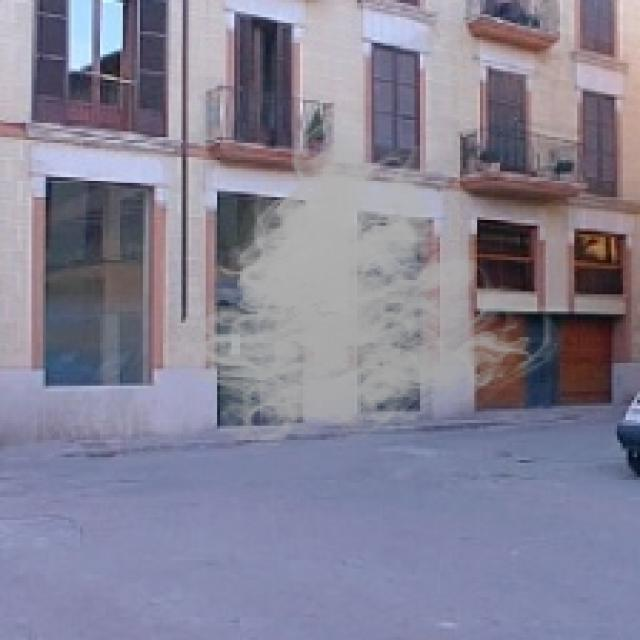Smoke: (163, 108, 566, 463)
